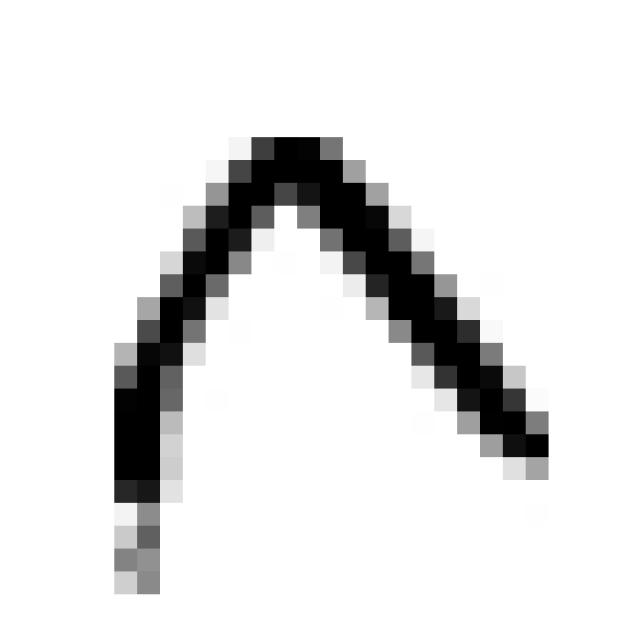8 -eight-: (91, 110, 574, 597)
